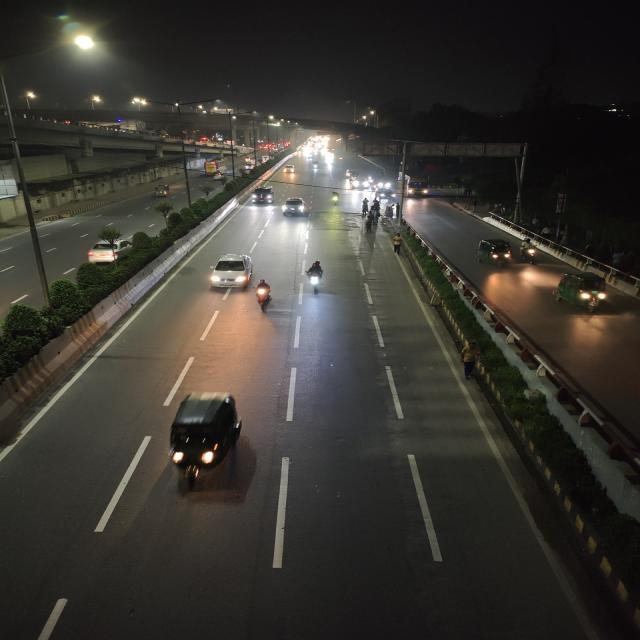bus: (405, 177, 430, 198), (202, 157, 228, 177)
car: (205, 251, 256, 295), (83, 233, 128, 265), (280, 196, 308, 218), (249, 186, 276, 206), (281, 164, 297, 176)
cng: (161, 388, 255, 492), (550, 270, 613, 314), (474, 237, 514, 269), (151, 183, 174, 199)
motorcycle: (301, 258, 329, 296), (252, 278, 276, 314), (519, 239, 543, 265), (327, 189, 342, 207)
pedestrian: (390, 232, 404, 258), (363, 215, 376, 234), (388, 204, 398, 220)
